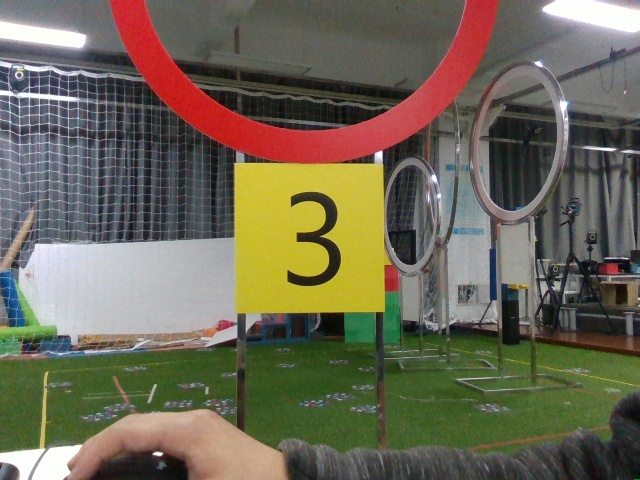target: (237, 165, 382, 313)
